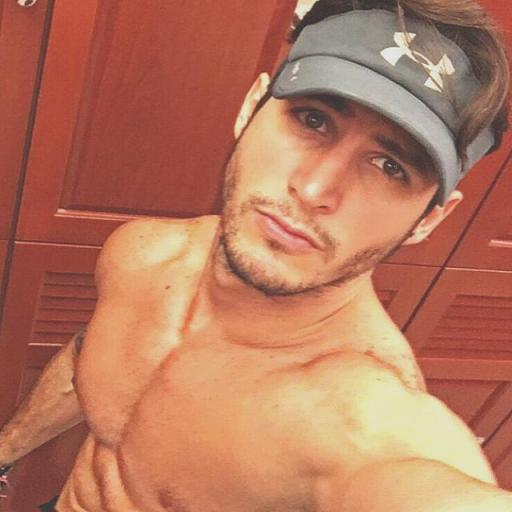Under Armour: (379, 27, 458, 93)
